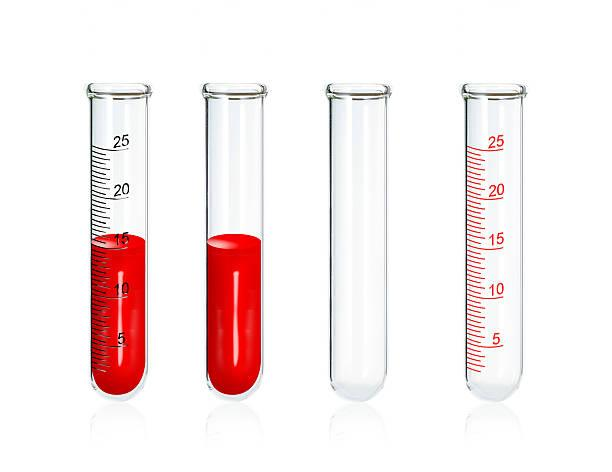Test tube: (450, 61, 526, 402), (195, 74, 270, 400), (319, 77, 393, 405), (84, 71, 154, 400)
